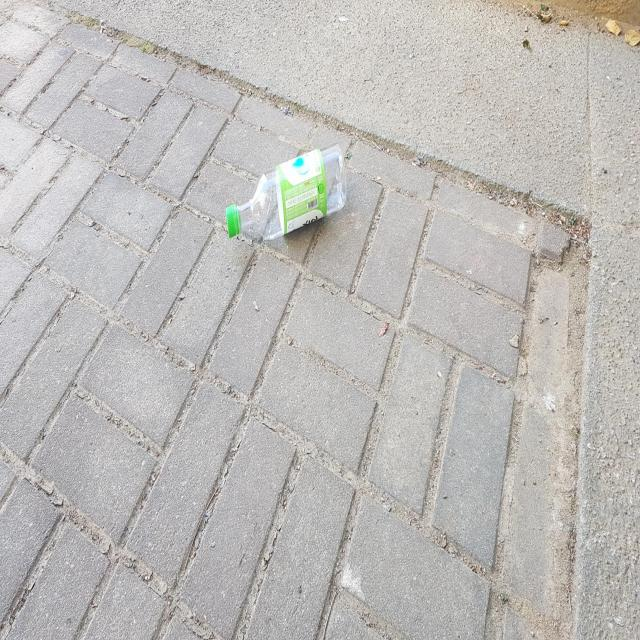plastic: (226, 142, 347, 239)
